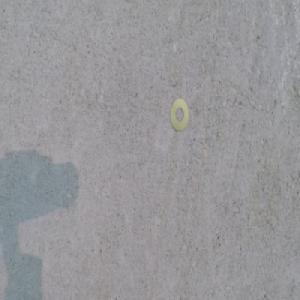Washer: (169, 98, 189, 131)
